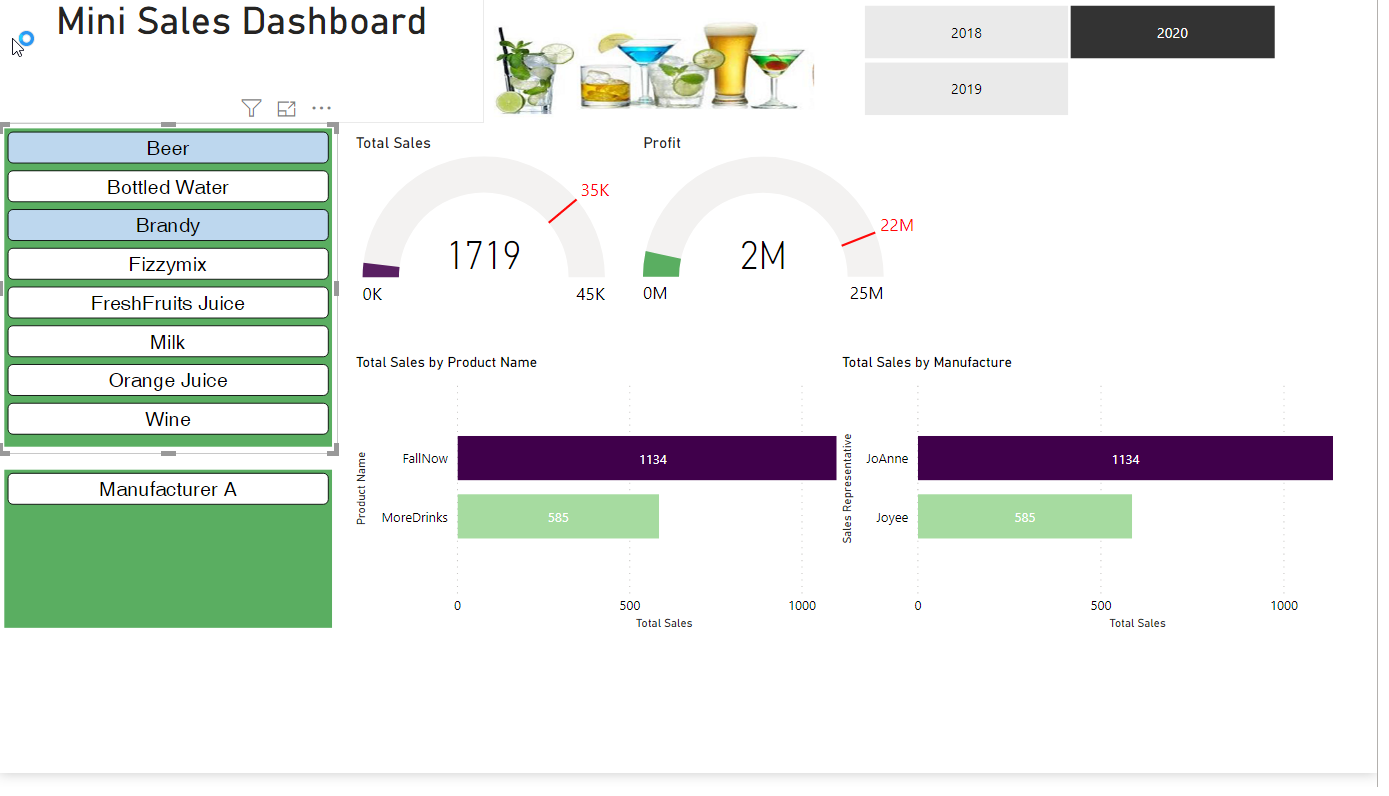

Layout of this report page (visuals, bound fields, positions):
{"tool":"powerbi","page":{"name":"Sales Overview","canvas":[1280,720],"ordinal":0},"visuals":[{"type":"textbox","title":"Mini Sales Dashboard","box":[0,0,450.7,116.2],"z":0},{"type":"image","box":[367.3,0,482.4,116.5],"z":1000},{"type":"slicer","fields":{"Values":["Sales.Date.Variation.Date Hierarchy.Year"]},"box":[778.2,0,430.9,116.2],"z":2000},{"type":"ChicletSlicer1448559807354","fields":{"Category":["Sales.Product Key"]},"box":[0,116.2,314.8,307.8],"z":3000},{"type":"ChicletSlicer1448559807354","fields":{"Category":["Product.Manufacturer"]},"box":[0,433.2,314.8,159.1],"z":4000},{"type":"gauge","fields":{"Y":["Sales.Total Sales"]},"box":[325.9,125.4,256.7,170.7],"z":5000},{"type":"gauge","fields":{"Y":["Sales.Profit"]},"box":[593.1,125.4,267.2,170.7],"z":6000},{"type":"barChart","title":"Total Sales by Product Name","fields":{"Y":["Sales.Total Sales"],"Category":["Product.Product Name"],"Series":["Product.Product Name"]},"box":[326.4,331,501.8,261.3],"z":7000},{"type":"barChart","title":"Total Sales by Manufacture","fields":{"Y":["Sales.Total Sales"],"Category":["Product.Sales Representative","Product.Manufacturer"],"Series":["Product.Product Name"]},"box":[778.2,331,501.8,261.3],"z":8000}]}

Visuals, with their boxes on the page's 1280x720 design canvas (x1, y1, x2, y2). These are canvas units, not pixel positions in the 1389x796 screenshot, which may show the page scaled, cropped or inside an application window:
"Mini Sales Dashboard" textbox: region(0, 0, 451, 116)
image: region(367, 0, 850, 116)
slicer - Sales.Date.Variation.Date Hierarchy.Year: region(778, 0, 1209, 116)
ChicletSlicer1448559807354 - Sales.Product Key: region(0, 116, 315, 424)
ChicletSlicer1448559807354 - Product.Manufacturer: region(0, 433, 315, 592)
gauge - Sales.Total Sales: region(326, 125, 583, 296)
gauge - Sales.Profit: region(593, 125, 860, 296)
"Total Sales by Product Name" barChart: region(326, 331, 828, 592)
"Total Sales by Manufacture" barChart: region(778, 331, 1280, 592)
